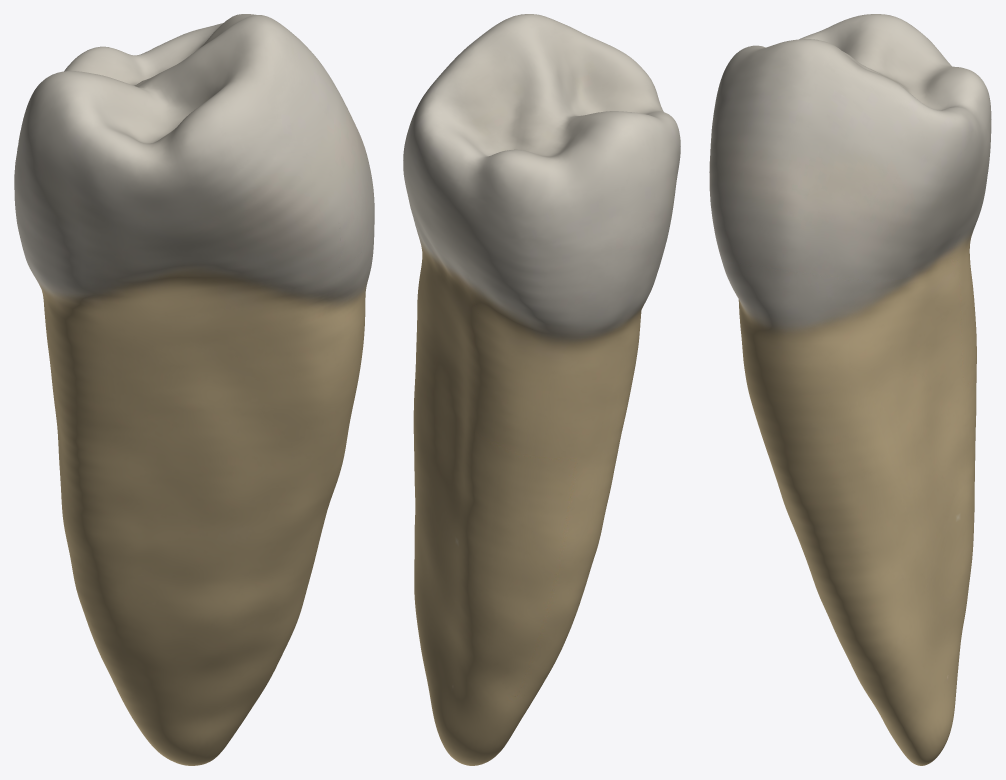
Rendered from mandibular_left_second_premolar.glb.
The picture shows the model from 3 angles, left to right: view 1: azimuth 30°, elevation 25°; view 2: azimuth 150°, elevation 25°; view 3: azimuth 270°, elevation 25°; orthographic projection. The views are drawn at different scales.
Visible parts, largest first — view 1: Object_2; view 2: Object_2; view 3: Object_2.
Boxes of the visible parts, bbox=[...] form: Object_2: bbox=[14, 14, 374, 765]; Object_2: bbox=[403, 14, 680, 765]; Object_2: bbox=[709, 14, 991, 765].
Size of the model in its own units: 0.7555 by 1.93 by 0.6817.
Materials: 1 (1 with a texture image).
